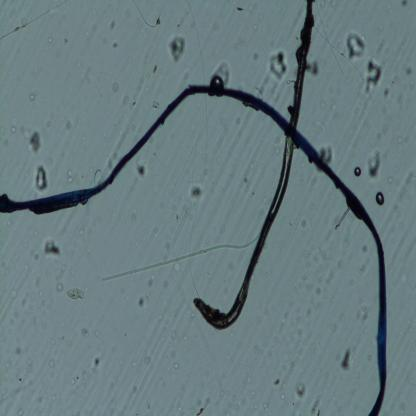Air bubble: (375, 190, 386, 206), (354, 166, 362, 178)
Background material: (396, 168, 416, 212), (365, 56, 386, 97), (345, 31, 368, 65), (266, 46, 286, 82), (165, 32, 188, 63), (364, 146, 383, 178), (208, 60, 232, 85), (23, 125, 42, 155), (282, 358, 300, 388), (335, 344, 355, 370), (334, 207, 354, 231), (303, 244, 323, 268), (33, 162, 49, 192), (195, 395, 216, 416), (311, 388, 326, 415), (41, 236, 61, 256), (354, 300, 370, 323), (256, 77, 272, 99), (106, 149, 121, 169), (190, 184, 205, 204), (320, 143, 336, 161), (136, 154, 148, 178), (66, 286, 85, 301), (306, 57, 319, 78), (278, 308, 290, 330), (56, 263, 71, 280), (233, 35, 247, 51), (296, 379, 308, 397), (30, 244, 42, 262), (180, 68, 192, 85), (358, 261, 372, 275), (311, 118, 326, 131), (377, 37, 386, 57), (91, 354, 99, 375), (140, 354, 152, 368), (138, 294, 150, 307), (242, 372, 253, 386), (107, 19, 118, 33), (405, 62, 415, 77), (174, 401, 184, 416), (406, 317, 414, 334), (68, 167, 76, 184), (26, 356, 34, 373), (398, 401, 407, 416), (241, 174, 251, 186), (381, 87, 391, 99), (147, 276, 157, 288), (185, 306, 195, 318), (274, 138, 281, 155), (30, 312, 38, 326), (45, 357, 55, 368), (27, 91, 37, 102), (63, 119, 72, 131), (396, 92, 404, 105), (153, 62, 161, 75), (254, 346, 264, 356), (318, 100, 327, 111), (263, 400, 270, 414), (272, 375, 280, 387), (111, 38, 119, 50), (123, 93, 131, 105), (315, 283, 322, 296), (152, 100, 162, 109), (374, 130, 383, 140), (67, 377, 76, 387), (110, 82, 119, 92), (55, 283, 64, 293), (342, 239, 350, 250), (329, 321, 337, 332), (161, 280, 170, 289), (337, 260, 346, 269), (394, 133, 402, 143), (2, 137, 10, 147), (170, 351, 178, 361), (80, 328, 90, 336), (251, 50, 259, 60), (10, 289, 18, 299), (361, 243, 368, 254), (234, 116, 242, 125), (16, 408, 25, 416), (247, 4, 255, 13), (173, 262, 180, 272), (278, 392, 286, 400), (10, 125, 18, 133), (3, 361, 11, 369), (212, 22, 220, 30), (401, 0, 410, 7), (235, 5, 244, 12), (15, 347, 22, 356), (171, 329, 176, 341), (319, 0, 326, 8), (252, 402, 259, 410), (3, 372, 10, 380), (259, 11, 264, 22), (409, 79, 414, 90), (301, 219, 307, 228), (93, 22, 98, 32), (173, 362, 180, 369), (55, 48, 61, 56), (330, 104, 338, 110), (51, 393, 57, 401), (21, 296, 26, 305), (2, 395, 9, 401), (46, 35, 53, 41), (158, 315, 164, 322), (346, 76, 351, 84), (183, 333, 188, 341), (64, 37, 68, 46), (94, 330, 100, 336), (76, 62, 82, 68), (388, 177, 393, 184), (316, 408, 321, 415), (132, 386, 137, 393), (254, 24, 258, 30), (133, 101, 137, 107), (46, 122, 50, 128), (8, 222, 12, 225)
Cellulose filter fibre: (193, 28, 314, 333)
Cotton: (0, 77, 389, 416)
Glass filter fibre: (102, 230, 262, 283), (0, 0, 68, 41), (315, 1, 344, 76), (186, 0, 206, 84), (132, 0, 161, 26)
